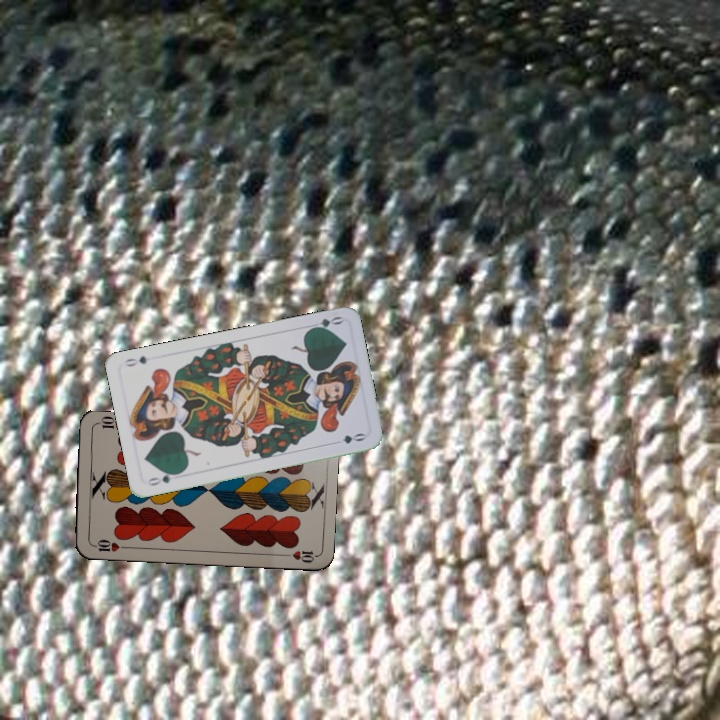GO: (305, 312, 345, 333), (143, 468, 183, 488)
H10: (88, 535, 129, 554)
